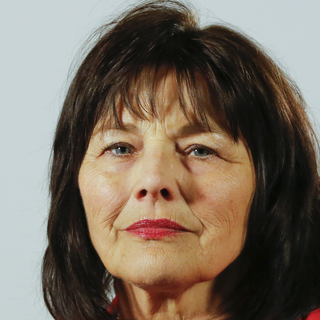eye: (180, 140, 225, 164), (100, 138, 142, 163)
